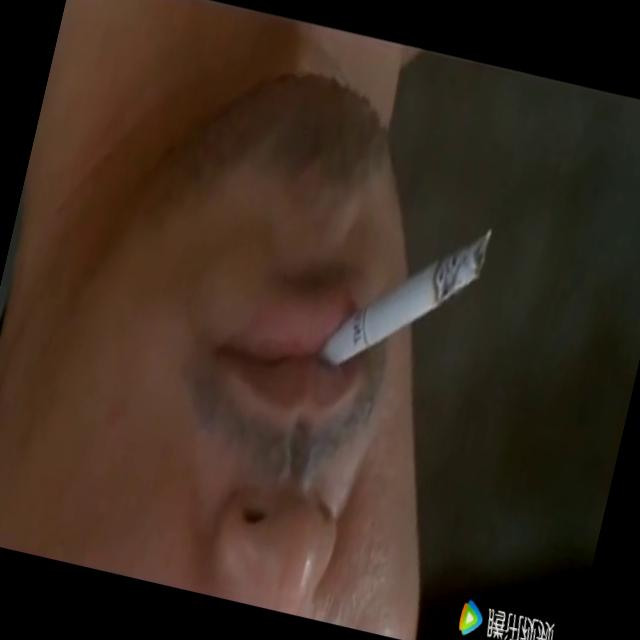smoke: (331, 202, 489, 392)
